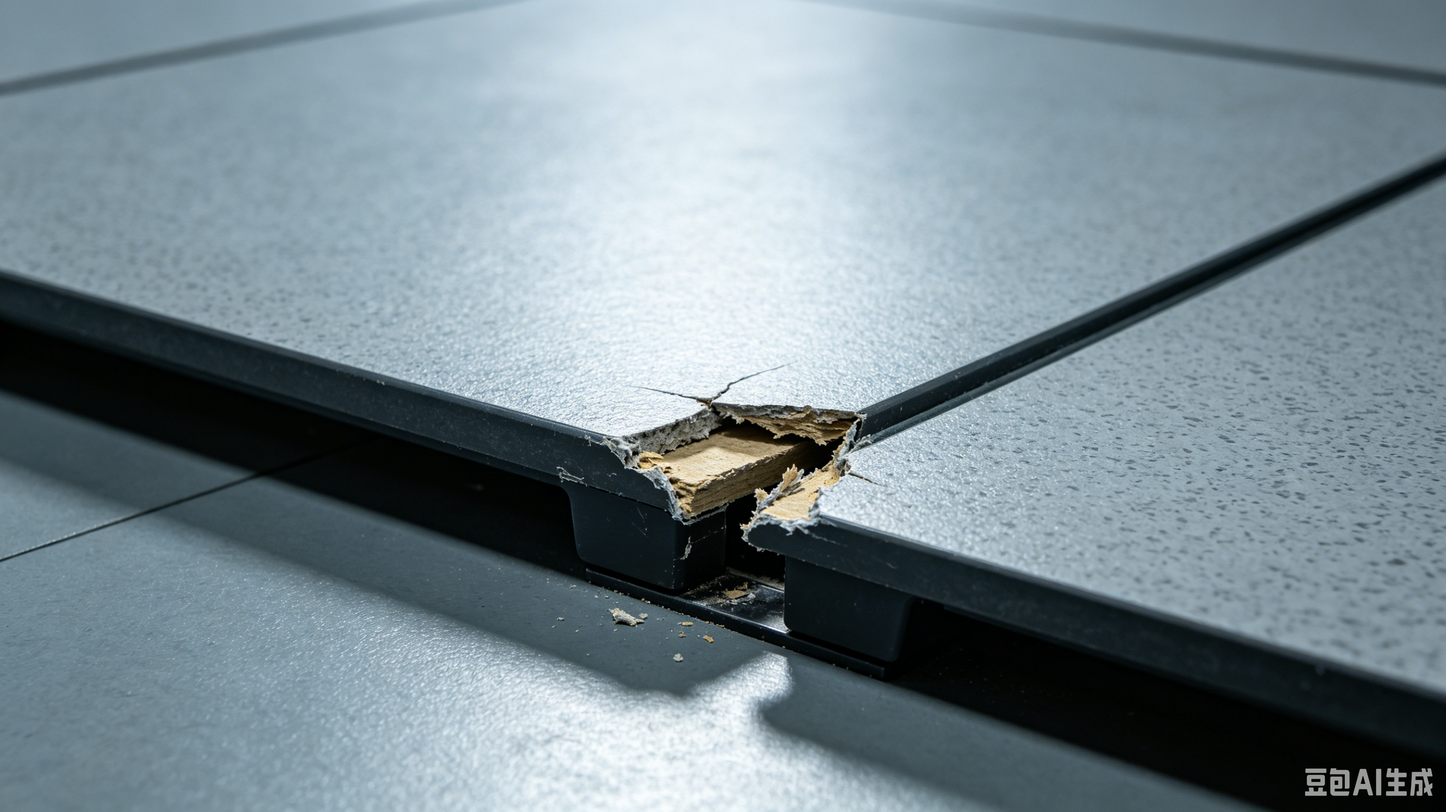floor_defect: (540, 341, 916, 637)
